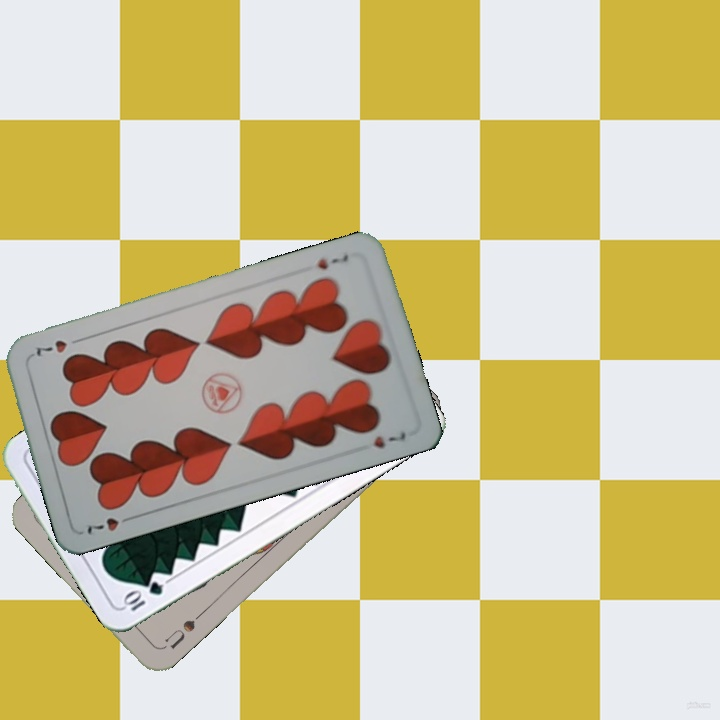G10: (118, 577, 166, 614)
H7: (81, 511, 138, 537), (313, 250, 351, 272)
SU: (159, 607, 206, 652)
